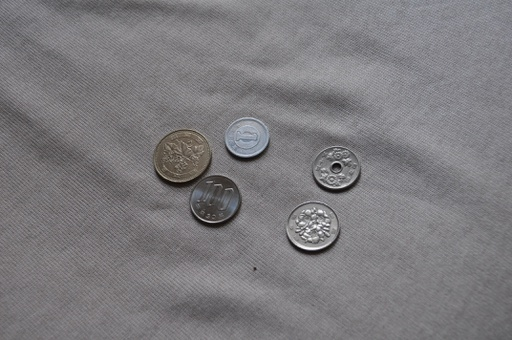100yen: (287, 202, 339, 252), (190, 176, 241, 224)
1yen: (225, 117, 269, 159)
500yen: (153, 130, 212, 184)
50yen: (312, 146, 360, 190)
